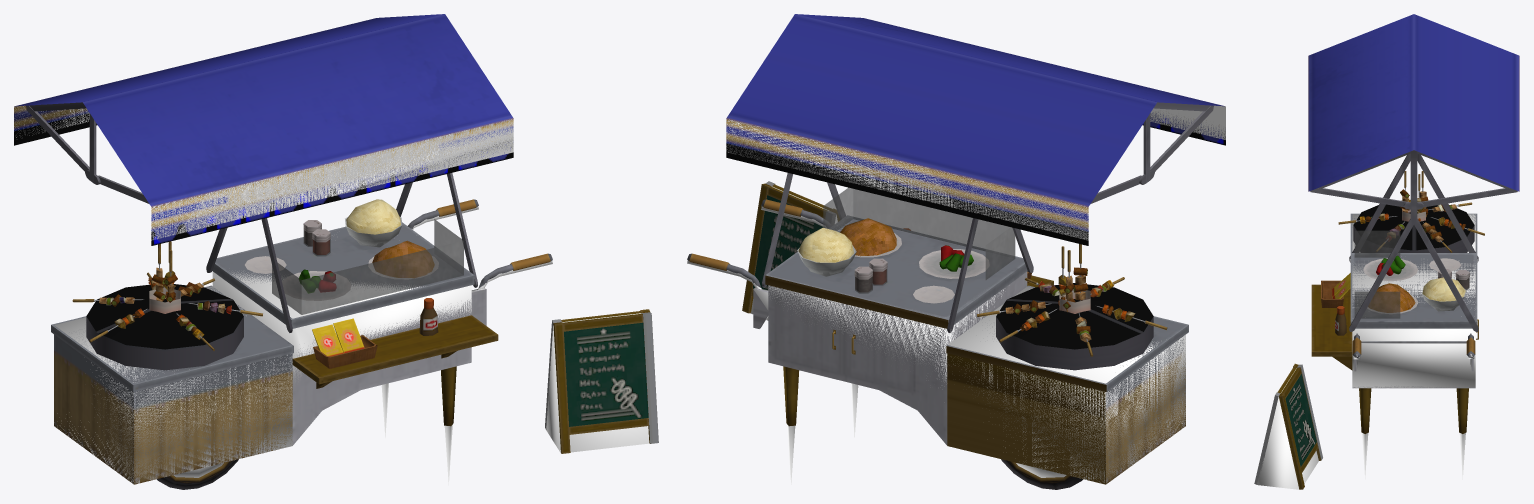
Rendered from objects_un_skewers_cart01.gltf.
3 views of the same model, side by side, from view 1: azimuth 30°, elevation 25°; view 2: azimuth 150°, elevation 25°; view 3: azimuth 270°, elevation 25° (orthographic). The views are drawn at different scales.
Parts seen in each view (by area): view 1: um_objects_un_skewers_cart01_model_lod0Shape:objects_un_skew (×11), um_objects_un_skewers_cart01_model_lod1Shape:objects_un_skew (×3), um_objects_un_skewers_cart01_model_lod2Shape:objects_un_skew (×3); view 2: um_objects_un_skewers_cart01_model_lod0Shape:objects_un_skew (×11), um_objects_un_skewers_cart01_model_lod1Shape:objects_un_skew (×3), um_objects_un_skewers_cart01_model_lod2Shape:objects_un_skew (×2); view 3: um_objects_un_skewers_cart01_model_lod0Shape:objects_un_skew (×12), um_objects_un_skewers_cart01_model_lod1Shape:objects_un_skew (×3), um_objects_un_skewers_cart01_model_lod2Shape:objects_un_skew (×5).
Boxes of the visible parts, x1,y1,x2,y2 form: um_objects_un_skewers_cart01_model_lod0Shape:objects_un_skew (×11): (14,14,658,489); um_objects_un_skewers_cart01_model_lod1Shape:objects_un_skew (×3): (19,14,648,422); um_objects_un_skewers_cart01_model_lod2Shape:objects_un_skew (×3): (168,256,643,482); um_objects_un_skewers_cart01_model_lod0Shape:objects_un_skew (×11): (687,14,1225,489); um_objects_un_skewers_cart01_model_lod1Shape:objects_un_skew (×3): (726,14,1220,292); um_objects_un_skewers_cart01_model_lod2Shape:objects_un_skew (×2): (726,215,988,318); um_objects_un_skewers_cart01_model_lod0Shape:objects_un_skew (×12): (1254,14,1519,489); um_objects_un_skewers_cart01_model_lod1Shape:objects_un_skew (×3): (1285,20,1519,466); um_objects_un_skewers_cart01_model_lod2Shape:objects_un_skew (×5): (1319,151,1508,313).
Bounding box in the file's own units: 3.47 × 3 × 2.12.
Materials: 12 (11 with a texture image).
